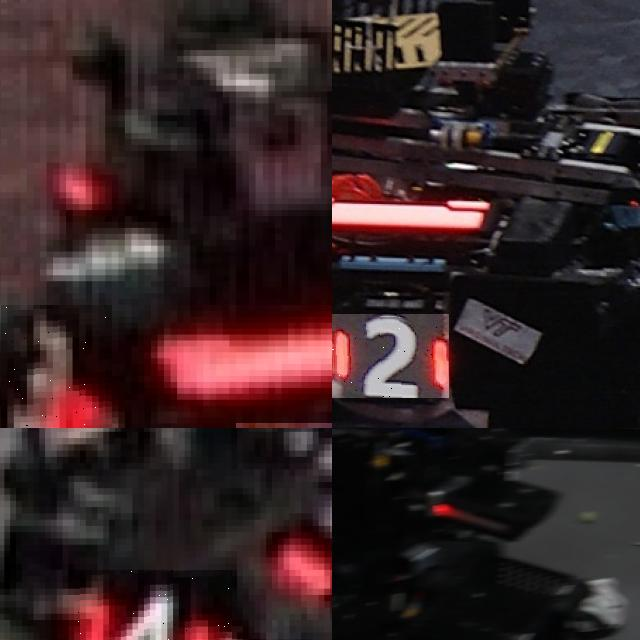R2: (332, 314, 449, 397)
R3: (1, 305, 112, 428)
R4: (68, 569, 231, 640)
